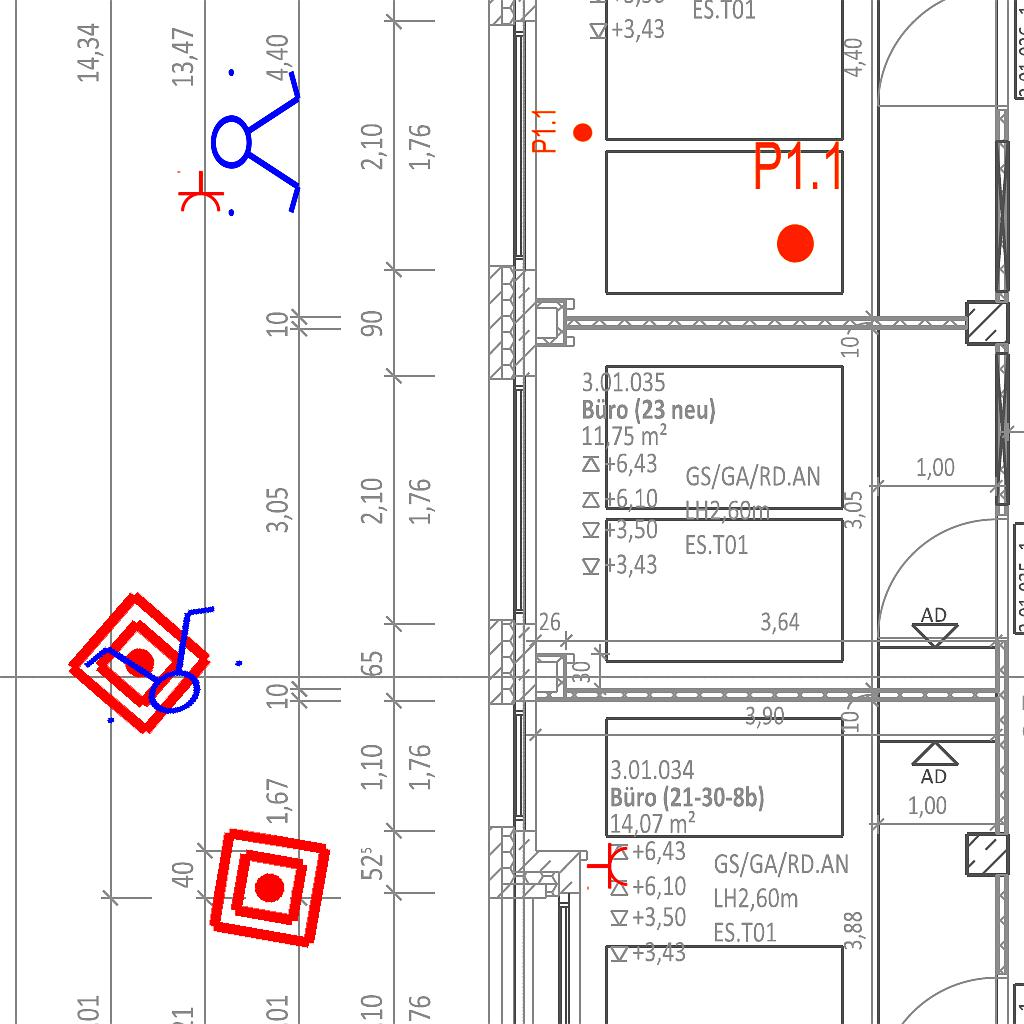Downlight_LED_Einbauleuchten_Flur: (752, 138, 845, 266), (530, 108, 594, 154)
NAM-Nichtautomatischer_Melder: (59, 583, 220, 744), (204, 822, 335, 953)
Schukosteckdose_einfach: (175, 170, 225, 213), (586, 842, 629, 892)
Serienschalter: (66, 590, 260, 748), (209, 57, 305, 225)
